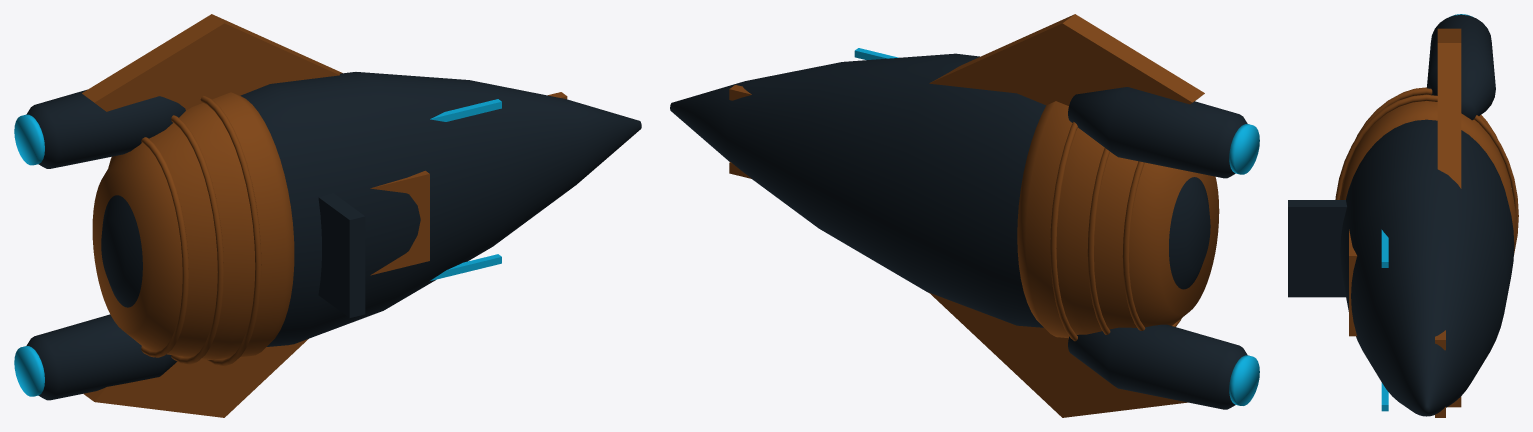
The model's file is SM_AcornShip.obj.
The picture shows the model from 3 angles, left to right: view 1: azimuth 30°, elevation 25°; view 2: azimuth 150°, elevation 25°; view 3: azimuth 270°, elevation 25°; orthographic projection. The views are drawn at different scales.
Parts seen in each view (by area): view 1: SM_AcornShip; view 2: SM_AcornShip; view 3: SM_AcornShip.
Part boxes in pixels (x1,y1,x2,y2): SM_AcornShip: (14,14,641,417); SM_AcornShip: (670,14,1259,417); SM_AcornShip: (1288,14,1518,417).
Bounding box in the file's own units: 457 × 290 × 167.
